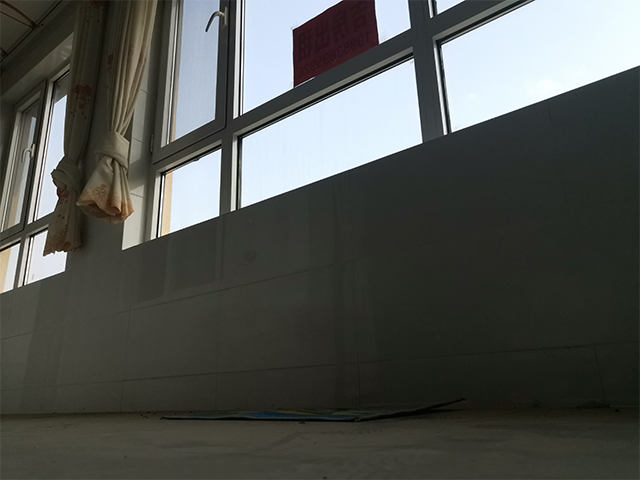carpet: (157, 393, 467, 425)
